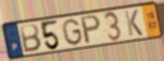3: (104, 9, 123, 43)
5: (39, 19, 61, 51)
B: (19, 23, 43, 54)
G: (61, 18, 84, 47)
K: (123, 8, 145, 37)
P: (79, 13, 102, 46)
